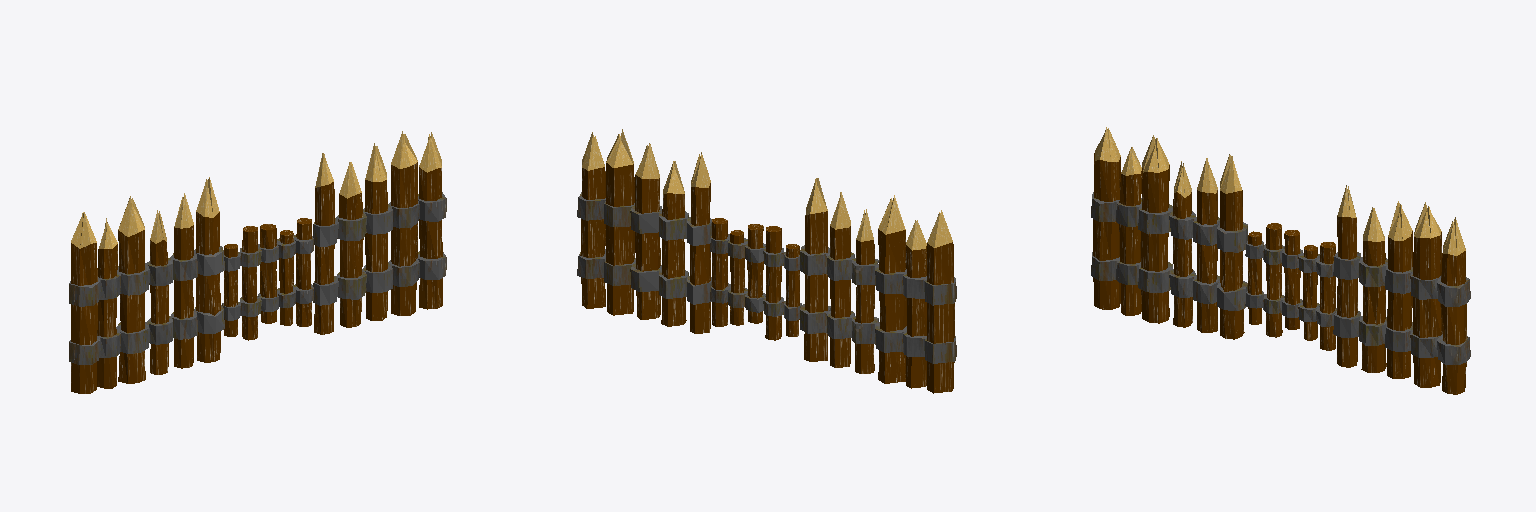
3 renders of one model, left to right at view 1: azimuth 30°, elevation 25°; view 2: azimuth 150°, elevation 25°; view 3: azimuth 330°, elevation 25°, orthographic.
Parts seen in each view (by area): view 1: barricada.002; view 2: barricada.002; view 3: barricada.002.
Boxes of the visible parts, x1=… form: barricada.002: x1=69, y1=131, x2=446, y2=393; barricada.002: x1=577, y1=129, x2=956, y2=393; barricada.002: x1=1091, y1=127, x2=1470, y2=394.
Size of the model in its own units: 26.34 by 12.39 by 2.17.
1 materials, 1 textured.